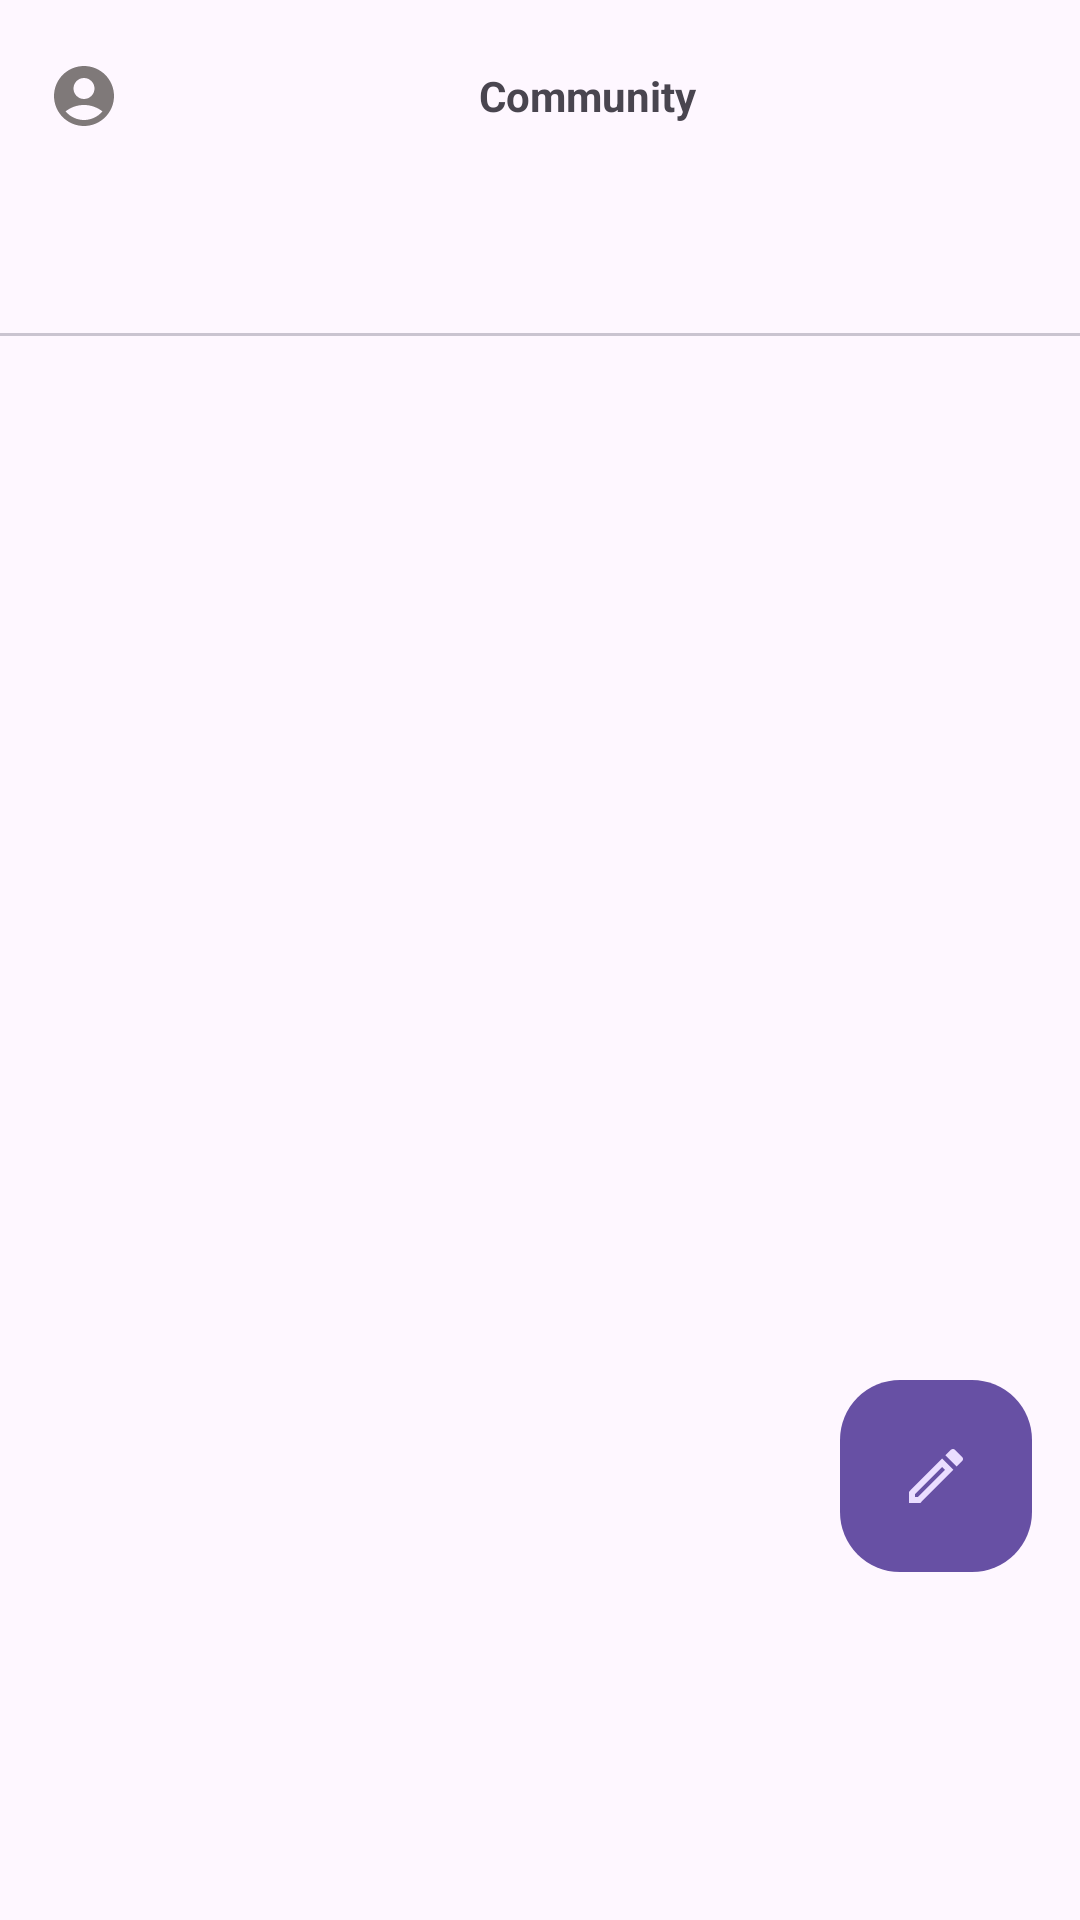

Icon bounding boxes for this 1080*1920 phone screenshot, format region(x1, y1, x2, y2):
account circle: region(54, 66, 114, 126)
